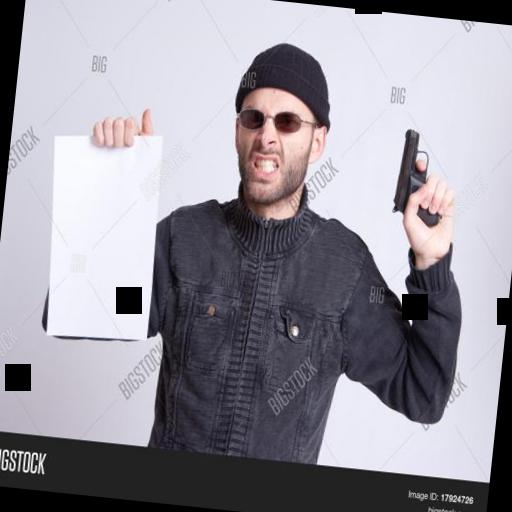Handgun: (388, 125, 452, 226)
